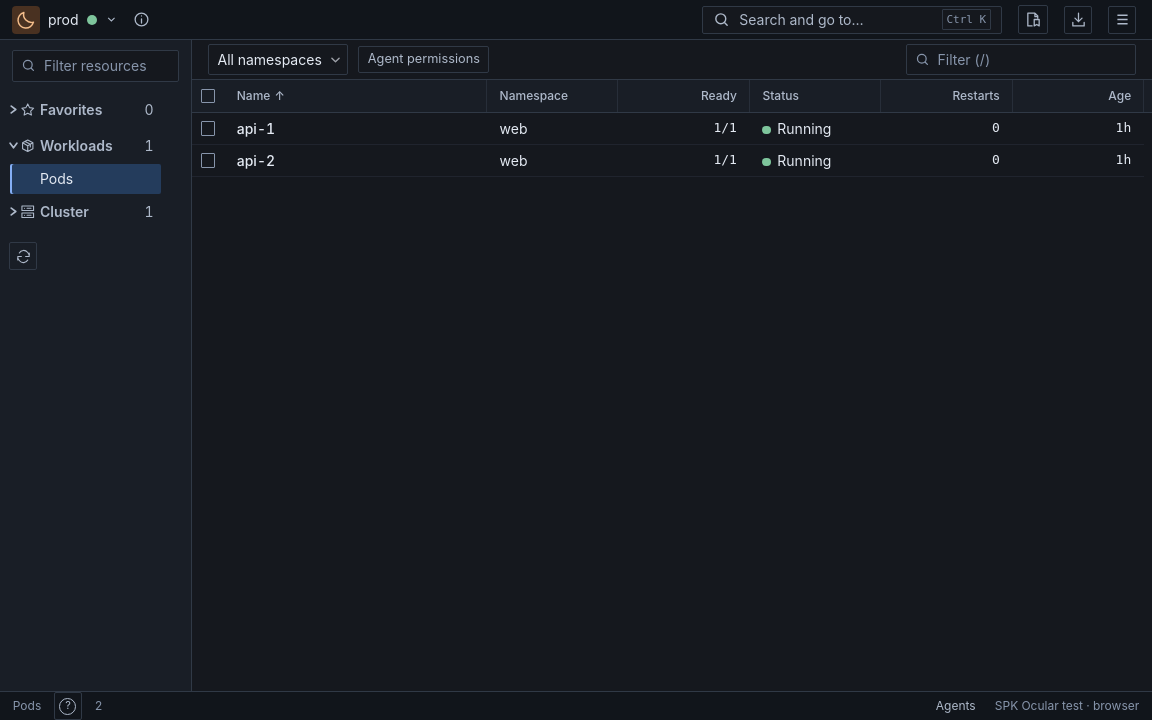
Test: actions in the workspace › the row menu acts on the row it was opened on, not the selected one
Expected: the text "api-2" is shown, [237,152,275,169]
Click the text "api-1". click: (256, 128)
box: [237,120,275,137]
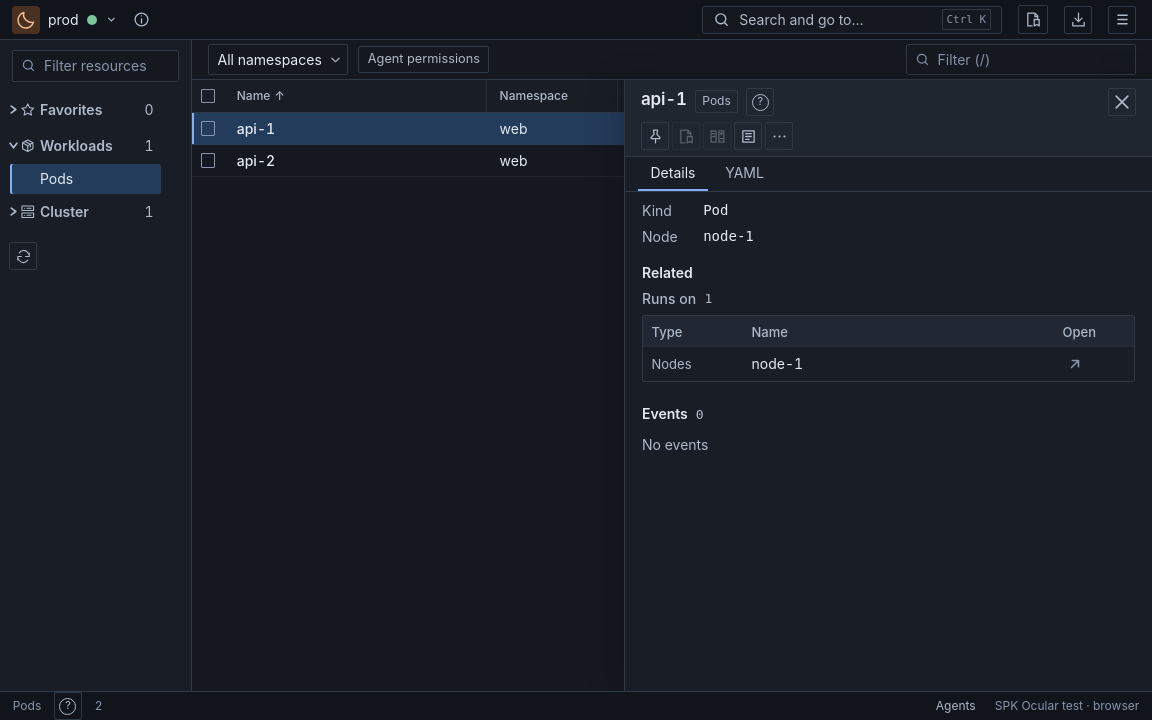
Click the button named "Close". click: (1122, 102)
box: [1108,88,1136,116]
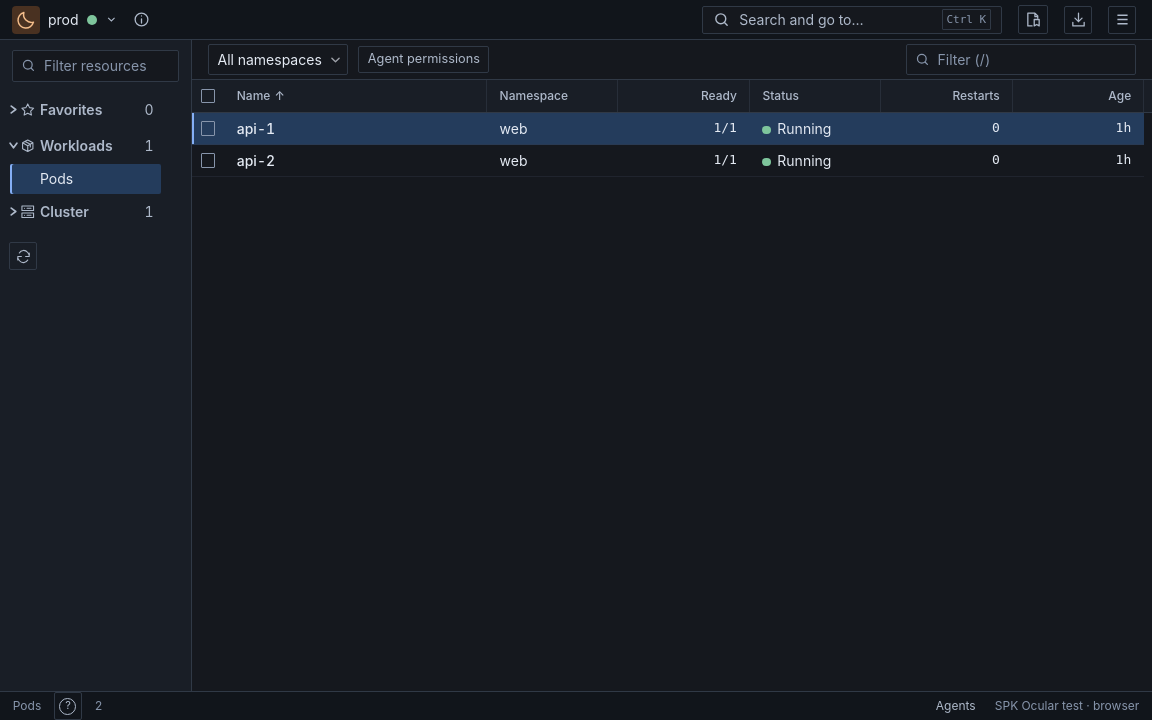
Right-click the text "api-2" at (256, 160), box [237,152,275,169]
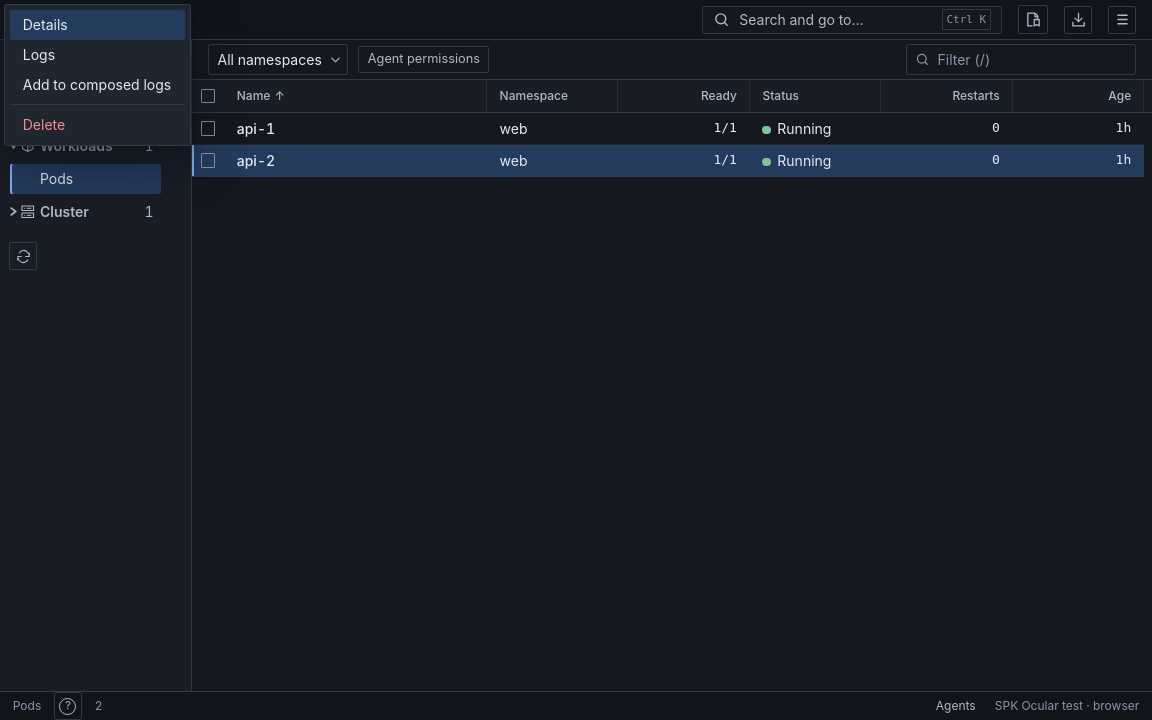
Now the menu items read "Details", "Logs", "Add to composed logs", "Delete", in this order
Click the menu item "Delete". click: (98, 124)
box: [10,110,185,140]
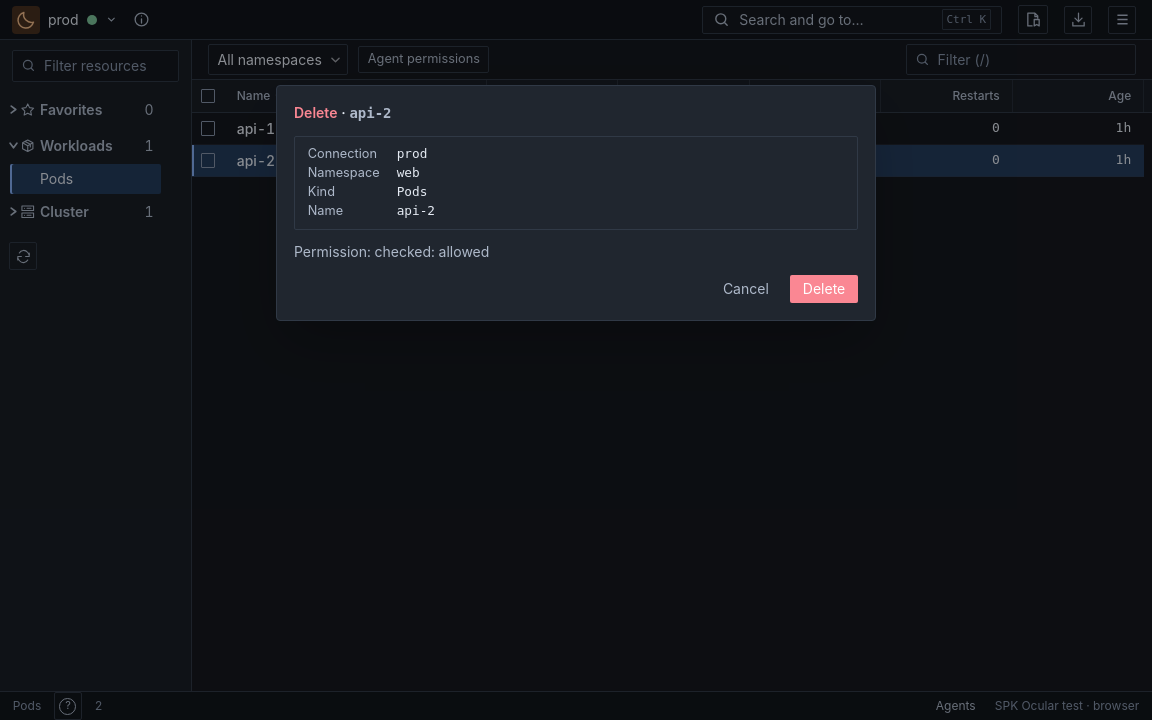
Now the dialog named "Delete api-2" shows "Pods", box [397,184,427,199]
